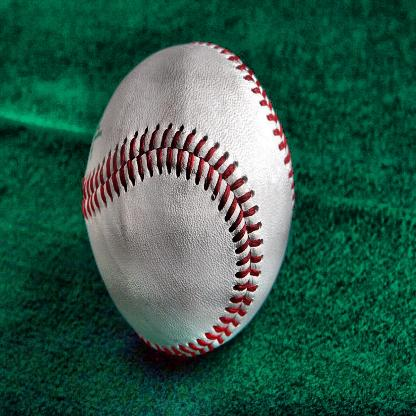baseball: (80, 38, 300, 361)
